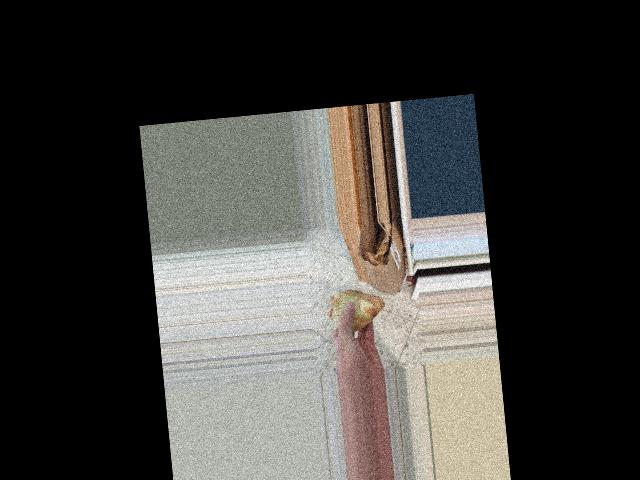onion: (326, 279, 389, 338)
